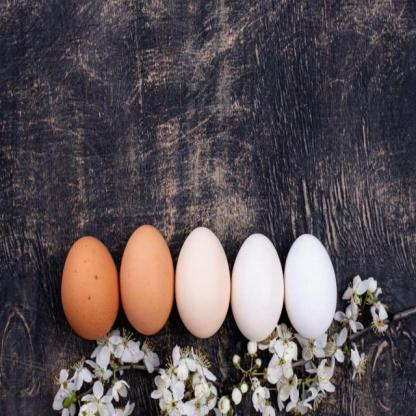egg: (52, 206, 119, 361), (115, 196, 171, 372), (173, 211, 234, 359), (232, 220, 285, 362), (284, 232, 346, 348)
